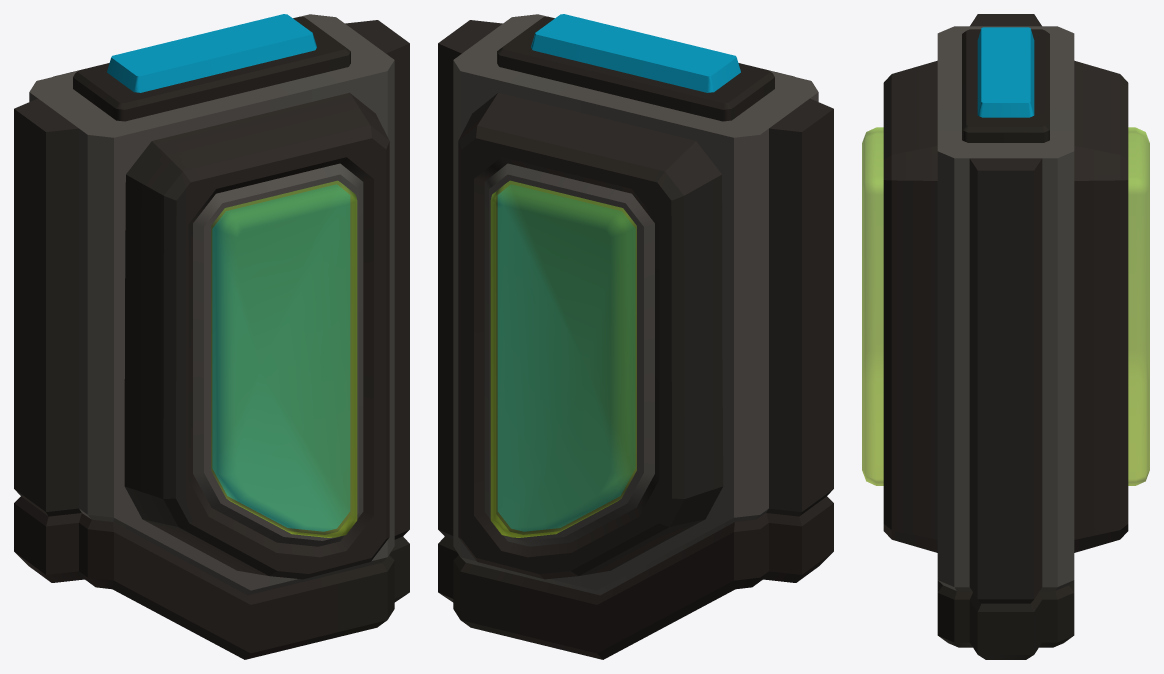
Rendered from Shotgun2_MagazineExtended.fbx.
3 views of the same model, side by side, from view 1: azimuth 30°, elevation 25°; view 2: azimuth 150°, elevation 25°; view 3: azimuth 270°, elevation 25° (orthographic). The views are drawn at different scales.
Visible parts, largest first — view 1: Shotgun2_MagazineExtended; view 2: Shotgun2_MagazineExtended; view 3: Shotgun2_MagazineExtended.
Boxes of the visible parts, x1=… form: Shotgun2_MagazineExtended: x1=14, y1=14, x2=409, y2=659; Shotgun2_MagazineExtended: x1=438, y1=14, x2=833, y2=659; Shotgun2_MagazineExtended: x1=862, y1=14, x2=1149, y2=659.
Size of the model in its own units: 8 by 12.41 by 6.21.
